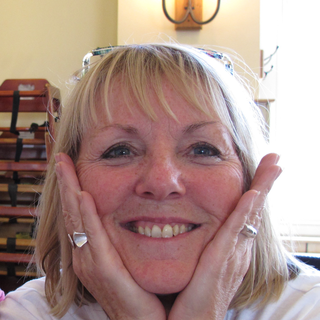eye: (96, 139, 143, 164), (181, 139, 227, 164)
